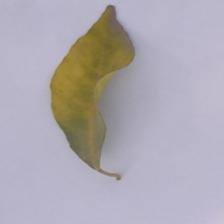greening: (35, 0, 159, 193)
